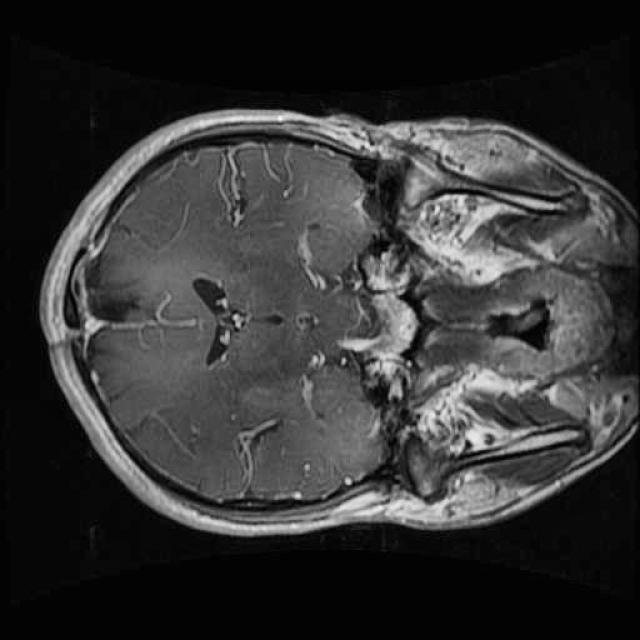Tumor: (70, 244, 166, 346)
